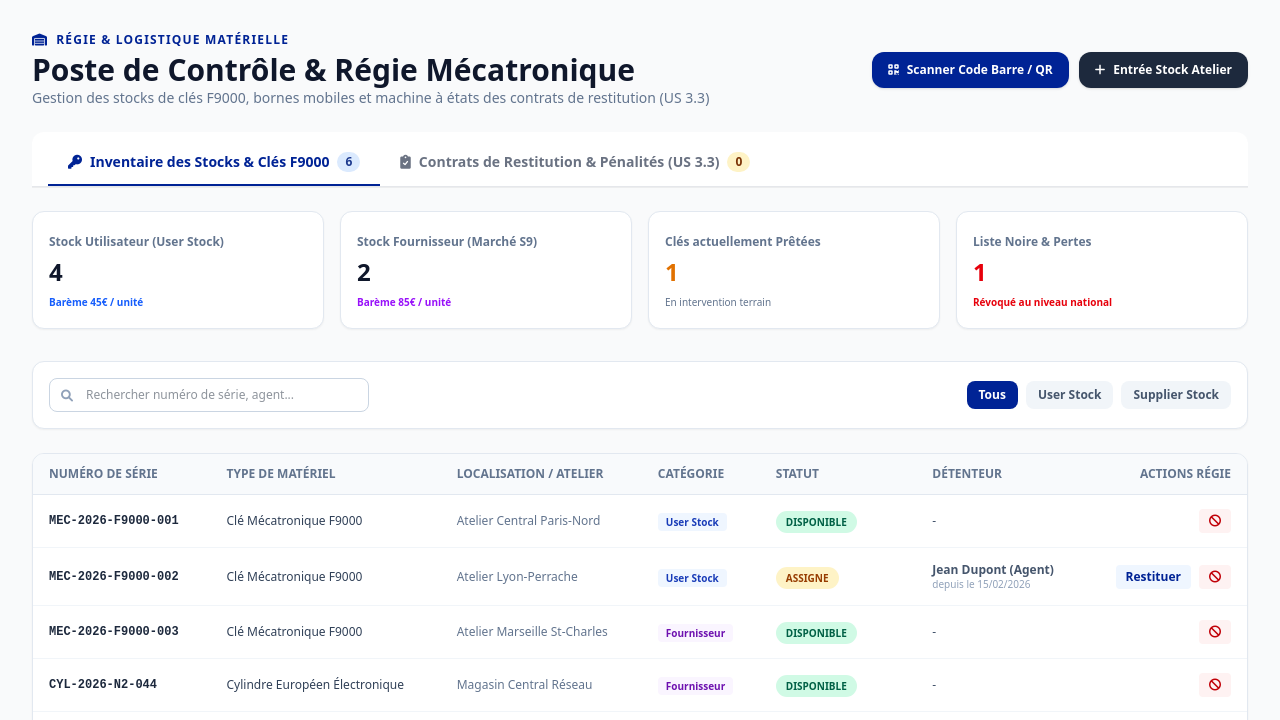
Test: Epic 4: Hub Opérationnel, Supervision Nationale & Gestion des Référentiels › User Story 4.2: Console Nationale & Régie Matérielle › permet de rechercher et de blacklister un matériel dans la Régie Matérielle
expect the heading "Poste de Contrôle & Régie Mécatronique" is shown: met, box [32,52,709,88]
expect the text "MEC-2026-F9000-001" is shown: met, box [33,494,210,548]
// Recherche par numéro de série
Type "CYL-2026" into the field with placeholder "Rechercher numéro de série, agent..." at (209, 395), box [49,378,369,412]
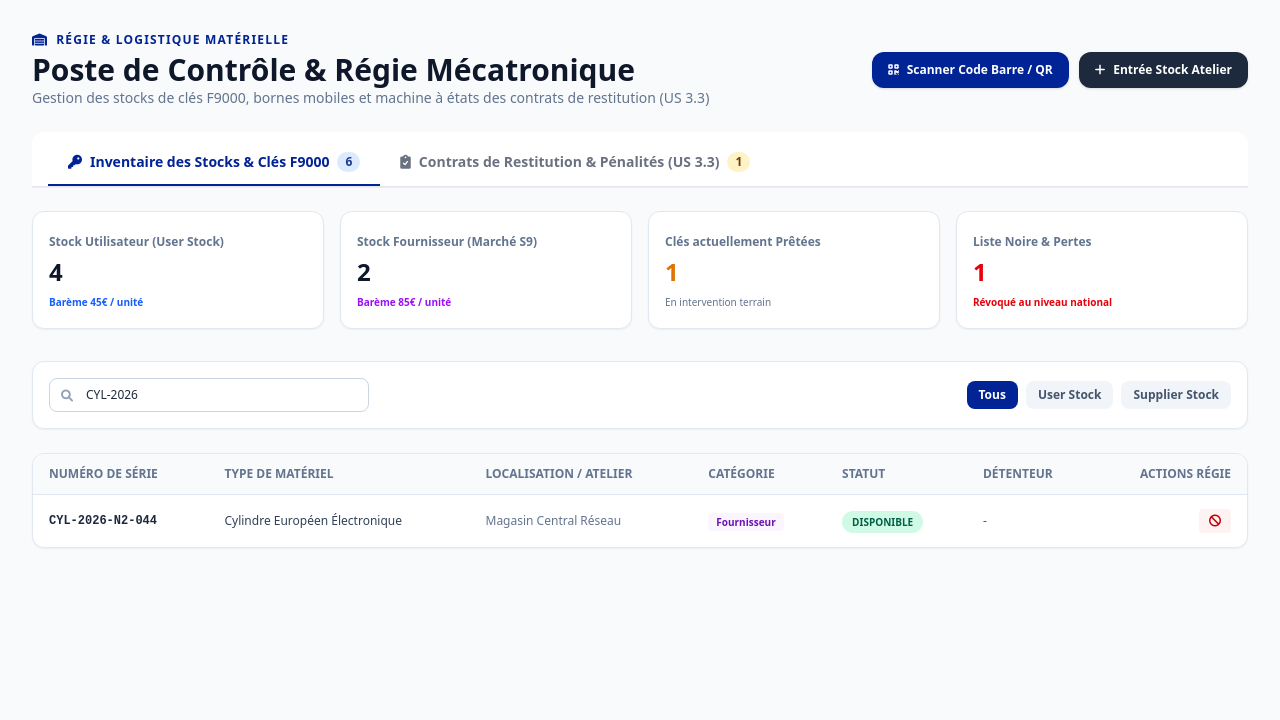
expect the text "CYL-2026-N2-044" is shown: met, box [33,494,208,547]
expect the text "MEC-2026-F9000-001" is gone: met
